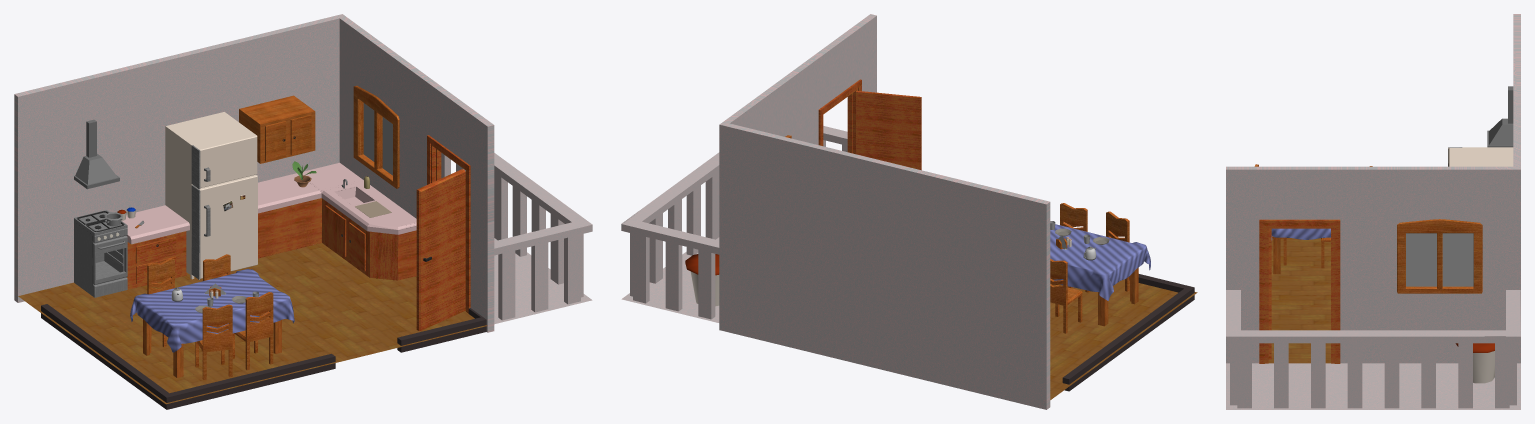
3 renders of one model, left to right at view 1: azimuth 30°, elevation 25°; view 2: azimuth 150°, elevation 25°; view 3: azimuth 270°, elevation 25°, orthographic. The views are drawn at different scales.
Parts seen in each view (by area): view 1: Room_Plane.003, Room.001_Plane.014, Worktop_Plane.007, Fridge_Cube, Fence_Plane.018, Door.001_Plane.011, Mat_Plane.008, Cooker_Plane, Overhead_cupboard_Plane.010, Window_1.001_Plane.006, Room.002_Plane.015, Chair_2_Plane.002 (+5 smaller); view 2: Room_Plane.003, Fence_Plane.018, Room.001_Plane.014, Door.001_Plane.011, Mat_Plane.008, Room.002_Plane.015, Chair.001_Plane.002, Chair_2_Plane.002, Trash_Circle.006, Chair_Plane.002, Table_Plane.001; view 3: Room_Plane.003, Fence_Plane.018, Room.002_Plane.015, Window_1.001_Plane.006, Room.001_Plane.014, Door.001_Plane.011, Fridge_Cube, Trash_Circle.006, Cooker.001_Plane.021, Mat_Plane.008, Table_Plane.001.
Part boxes in pixels (<box>): Room_Plane.003: <box>14,14,494,409</box>; Room.001_Plane.014: <box>18,243,487,404</box>; Worktop_Plane.007: <box>122,162,416,289</box>; Fridge_Cube: <box>165,112,257,279</box>; Fence_Plane.018: <box>441,153,592,320</box>; Door.001_Plane.011: <box>416,135,470,330</box>; Mat_Plane.008: <box>130,268,294,352</box>; Cooker_Plane: <box>74,210,127,297</box>; Overhead_cupboard_Plane.010: <box>239,95,315,163</box>; Window_1.001_Plane.006: <box>353,85,399,188</box>; Room.002_Plane.015: <box>494,238,592,324</box>; Chair_2_Plane.002: <box>195,304,232,379</box>; Room_Plane.003: <box>719,14,1194,409</box>; Fence_Plane.018: <box>621,126,847,319</box>; Room.001_Plane.014: <box>1050,279,1197,399</box>; Door.001_Plane.011: <box>818,79,921,170</box>; Mat_Plane.008: <box>1050,224,1150,300</box>; Room.002_Plane.015: <box>621,237,719,322</box>; Chair.001_Plane.002: <box>1050,259,1082,333</box>; Chair_2_Plane.002: <box>1085,211,1129,292</box>; Trash_Circle.006: <box>685,254,719,306</box>; Chair_Plane.002: <box>1060,203,1087,288</box>; Table_Plane.001: <box>1098,267,1138,326</box>; Room_Plane.003: <box>1226,14,1520,363</box>; Fence_Plane.018: <box>1226,290,1520,408</box>; Room.002_Plane.015: <box>1226,363,1520,409</box>; Window_1.001_Plane.006: <box>1397,219,1482,293</box>; Room.001_Plane.014: <box>1268,238,1330,363</box>; Door.001_Plane.011: <box>1259,219,1340,363</box>; Fridge_Cube: <box>1448,147,1513,166</box>; Trash_Circle.006: <box>1455,343,1494,383</box>; Cooker.001_Plane.021: <box>1487,86,1513,147</box>; Mat_Plane.008: <box>1271,228,1330,240</box>; Table_Plane.001: <box>1273,237,1280,274</box>.
Size of what is drawn, in the model's own units: 65 by 30 by 40.
24 materials, 18 textured.
